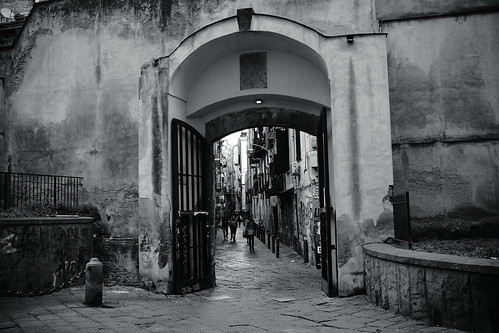door: (179, 112, 347, 282)
wall: (1, 1, 163, 279), (348, 1, 499, 290)
